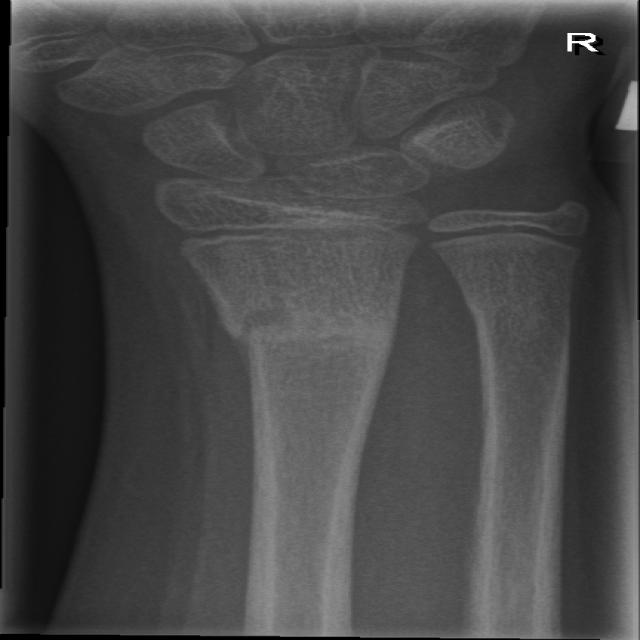radius fracture: (188, 257, 340, 394)
